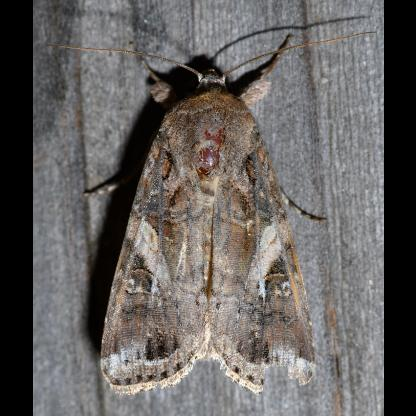Fall Armyworm Moth: (43, 28, 381, 400)
